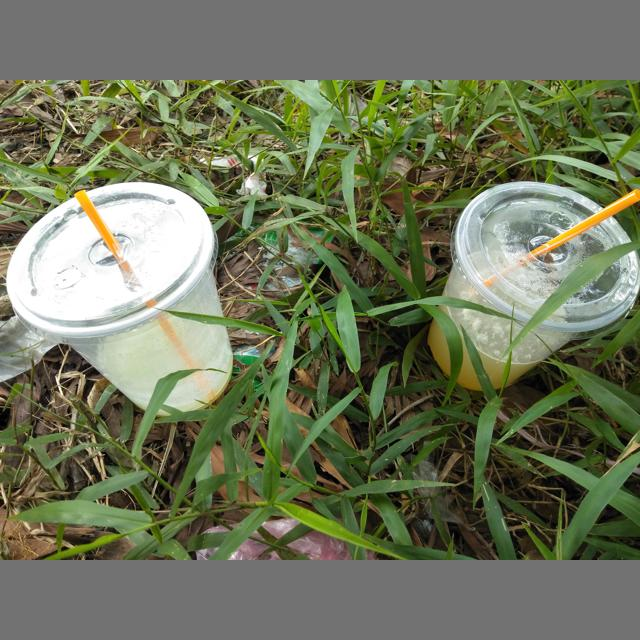litter: (6, 182, 233, 417), (427, 181, 639, 392), (6, 182, 218, 345), (450, 181, 639, 340), (74, 190, 216, 400), (222, 213, 336, 398), (484, 190, 639, 286), (195, 518, 376, 560), (0, 315, 58, 382), (412, 448, 463, 524), (199, 155, 267, 202)
